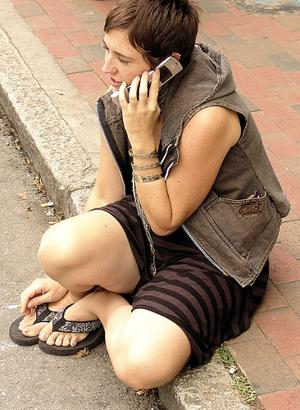person: (11, 5, 289, 395)
